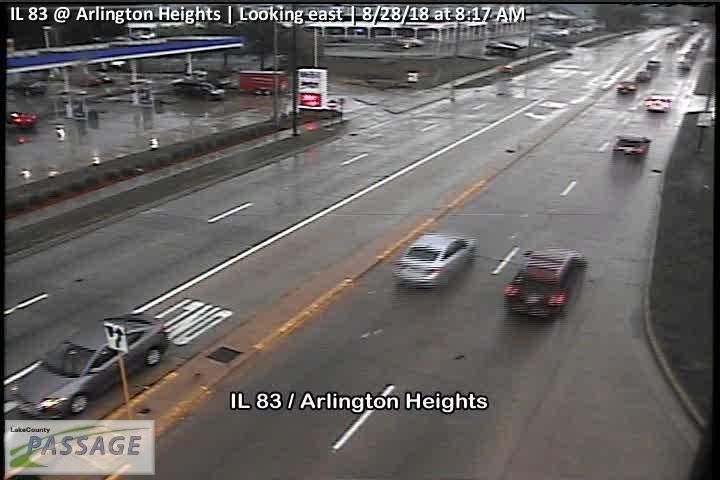Sedan: (9, 313, 168, 418), (502, 247, 586, 320), (389, 233, 480, 291), (613, 134, 651, 161), (644, 96, 672, 115)
